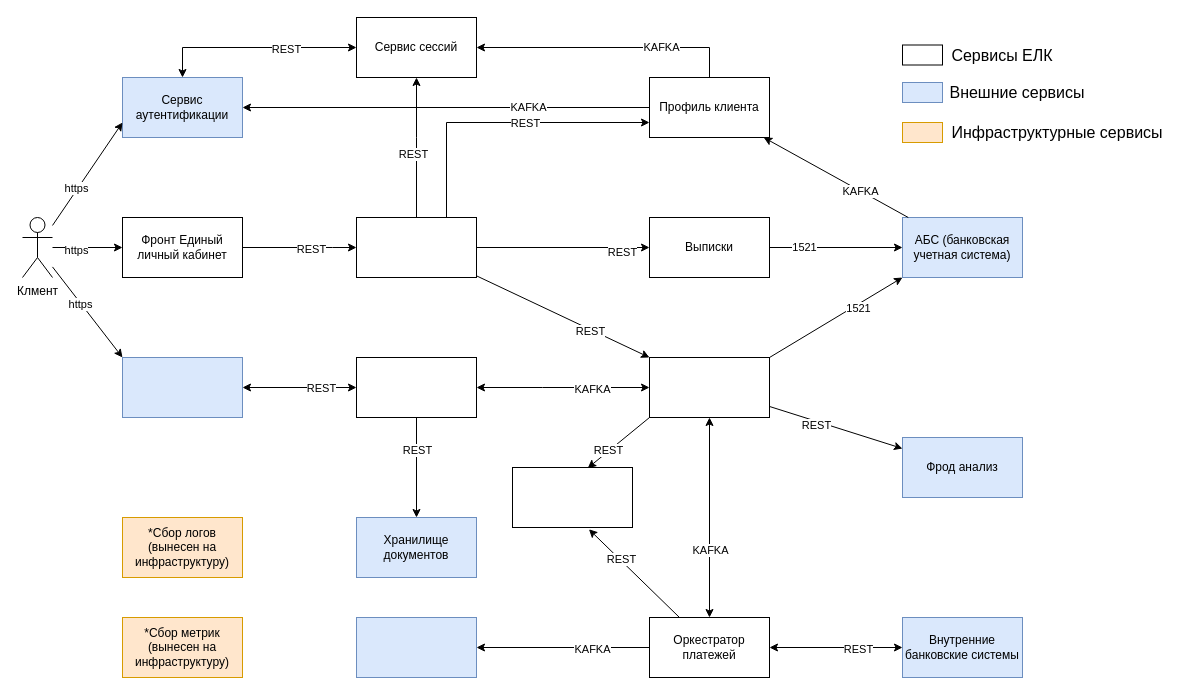
This 1190x695 diagram has some shape labels left out. Here are the shapes that lost their labels. From the top down, the box of each, then its label:
(356, 216, 476, 278): BFF
(122, 356, 242, 418): Внешний сервис подписания
(356, 356, 476, 418): Сервис подписания документов
(648, 356, 770, 418): Платежные поручения
(512, 466, 632, 528): Печать
(356, 616, 476, 678): Отправка сообщений
